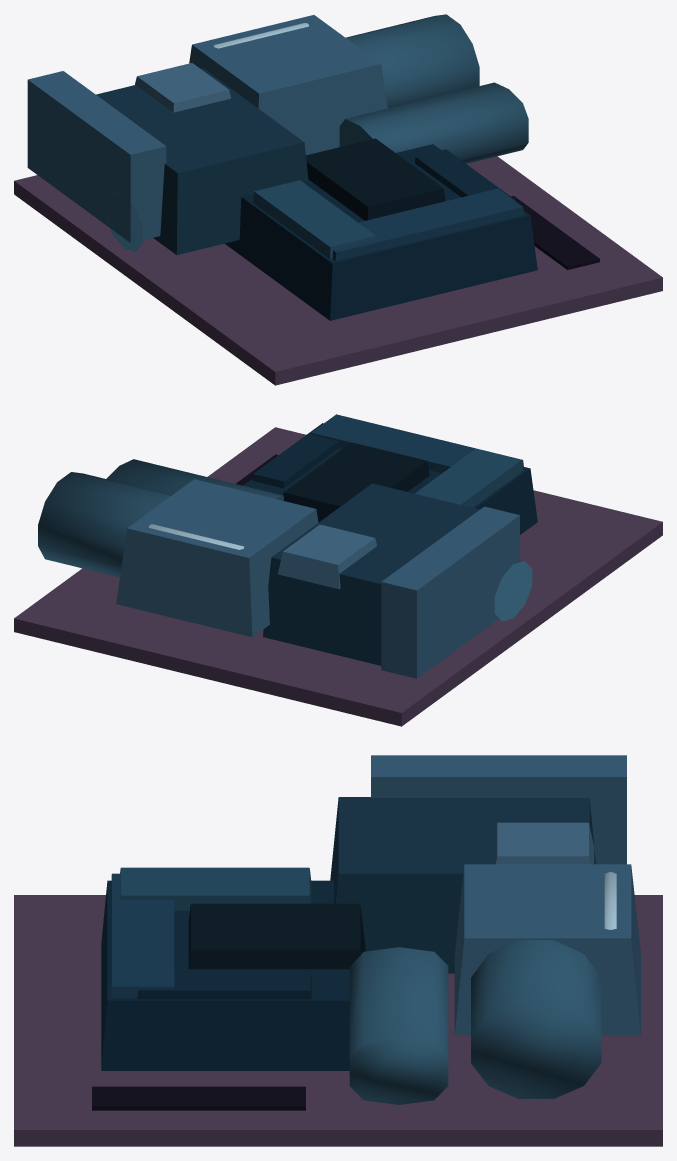
The model's file is newshc-271.glb.
3 renders of one model, top to bottom at view 1: azimuth 30°, elevation 25°; view 2: azimuth 150°, elevation 25°; view 3: azimuth 270°, elevation 25°, orthographic. The views are drawn at different scales.
Parts seen in each view (by area): view 1: newshc-271; view 2: newshc-271; view 3: newshc-271.
Boxes of the visible parts, left/top/right/bottom form: newshc-271: left=14, top=14, right=662, bottom=385; newshc-271: left=14, top=414, right=662, bottom=726; newshc-271: left=14, top=755, right=662, bottom=1146.
Bounding box in the file's own units: 2 × 0.6167 × 2.33.
